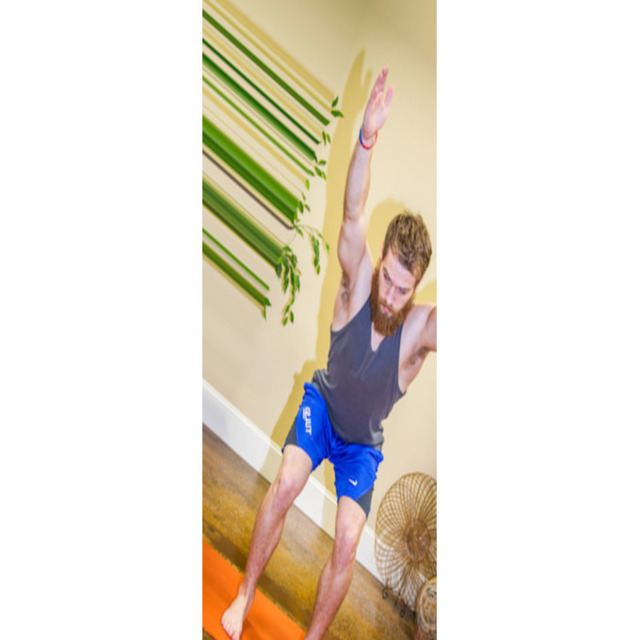Squat_Pose: (220, 62, 435, 638)
